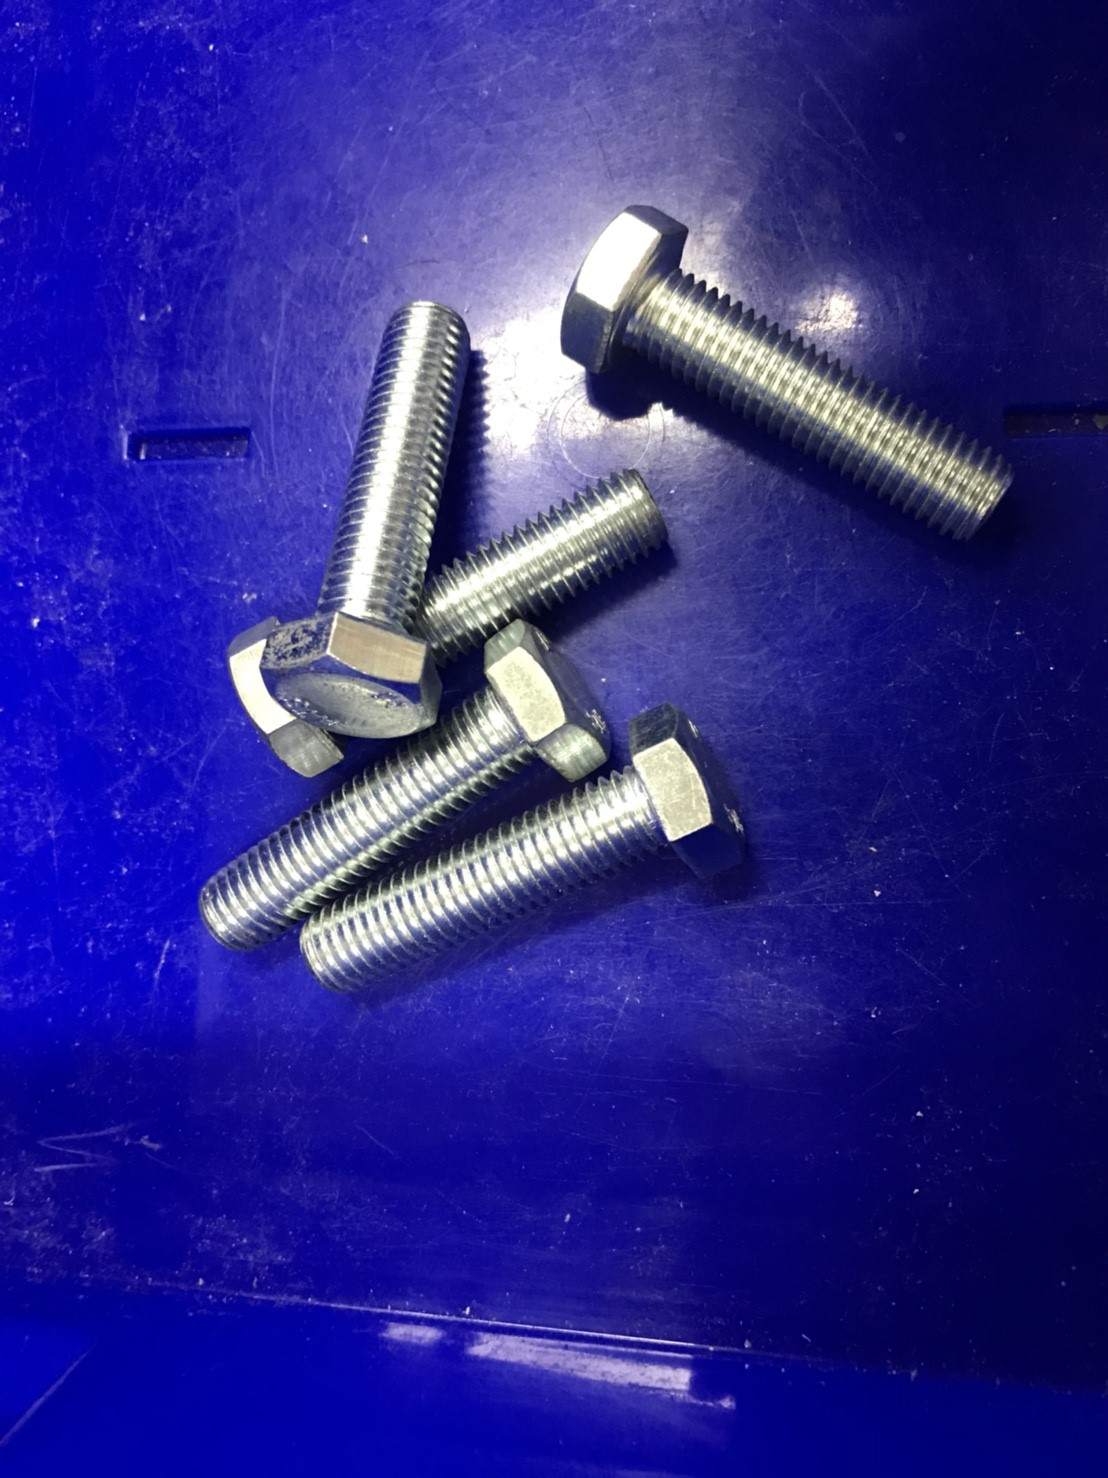screw: (553, 197, 1042, 549), (206, 461, 676, 786), (201, 618, 632, 941), (308, 727, 759, 1002), (283, 289, 493, 736)
